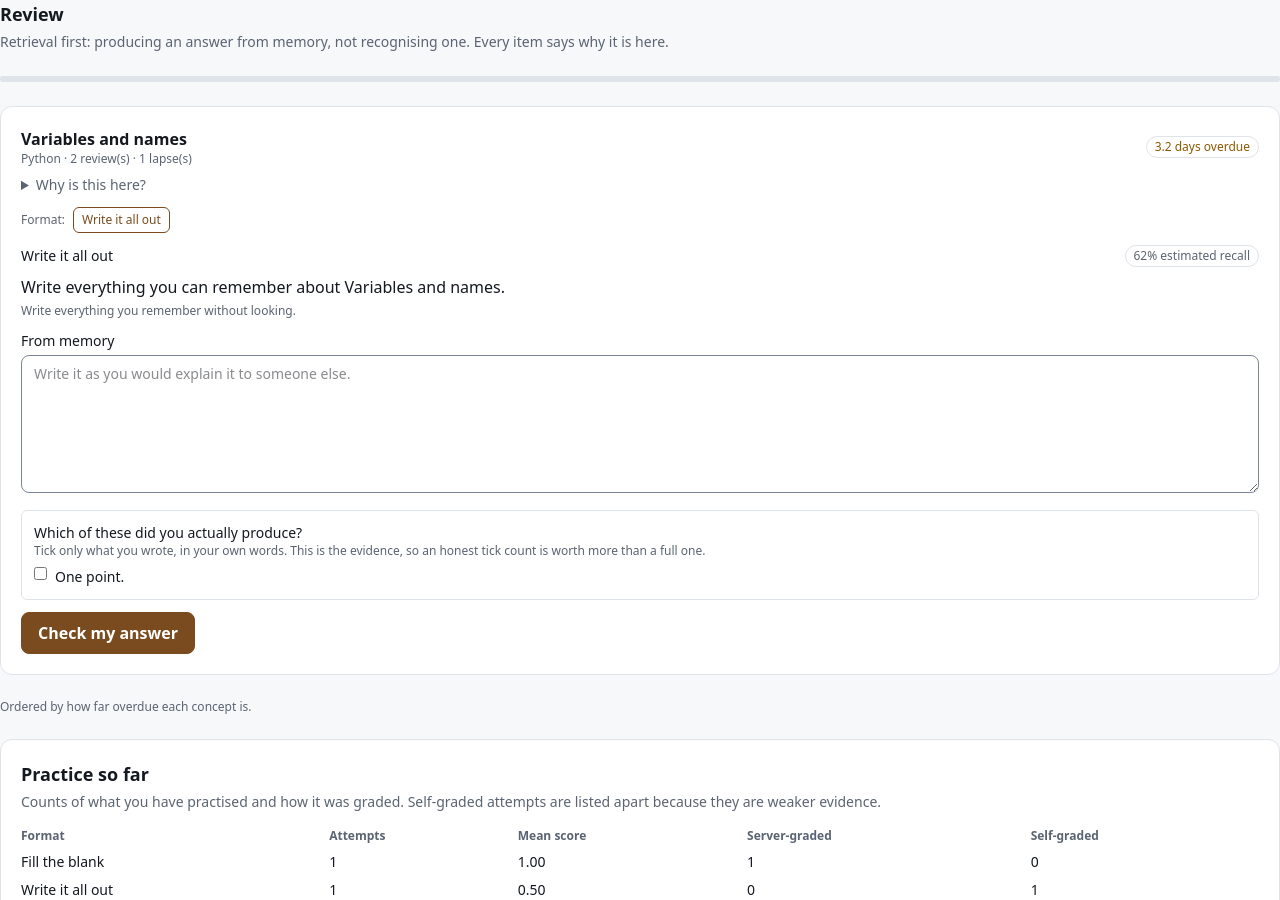
Test: ReviewPage — self-graded recall › says the learner graded it, rather than implying the server checked
Click the checkbox labelled "One point.". click: (40, 574)
box: [34, 567, 47, 580]
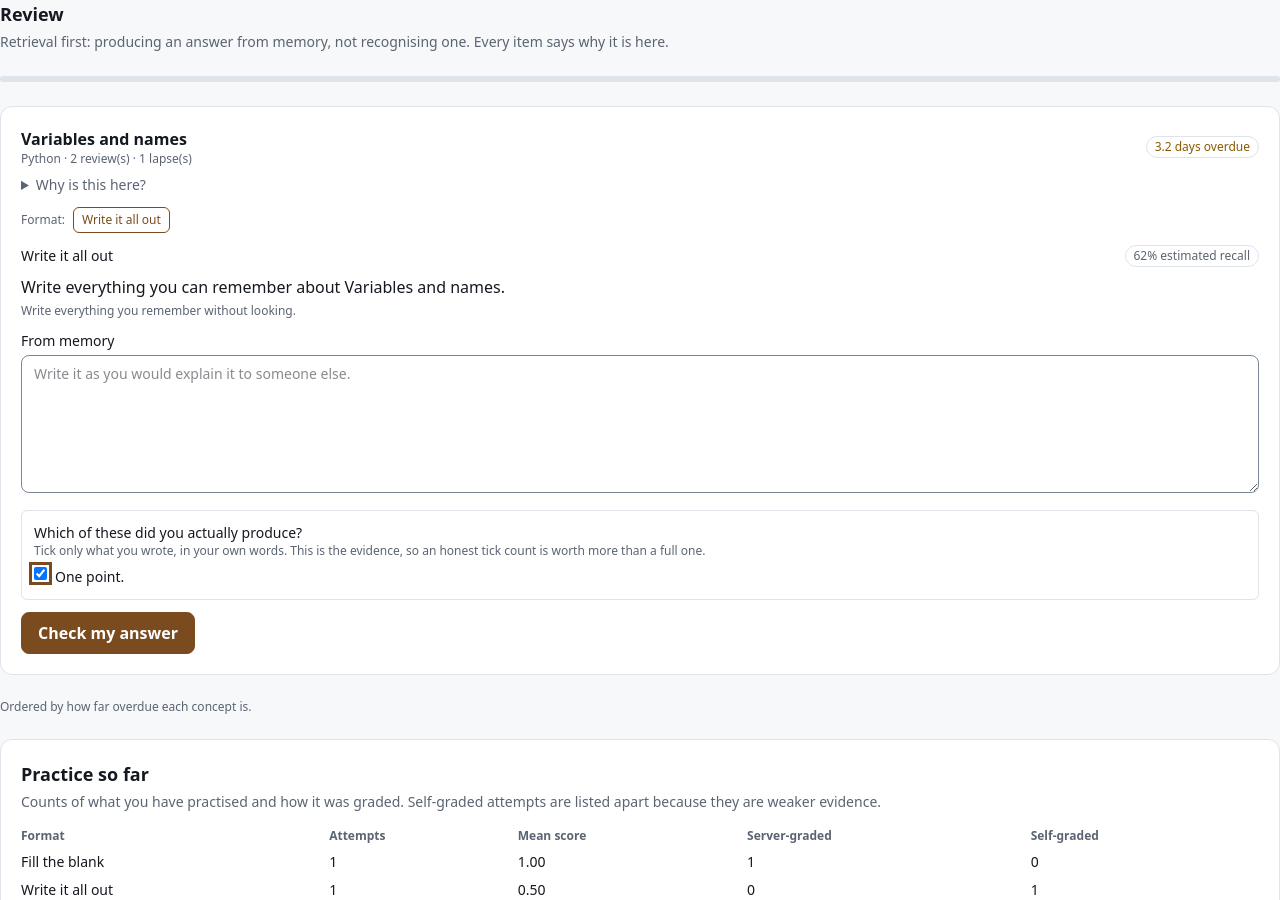
Click the button "Check my answer". click: (108, 633)
box: [21, 612, 195, 654]
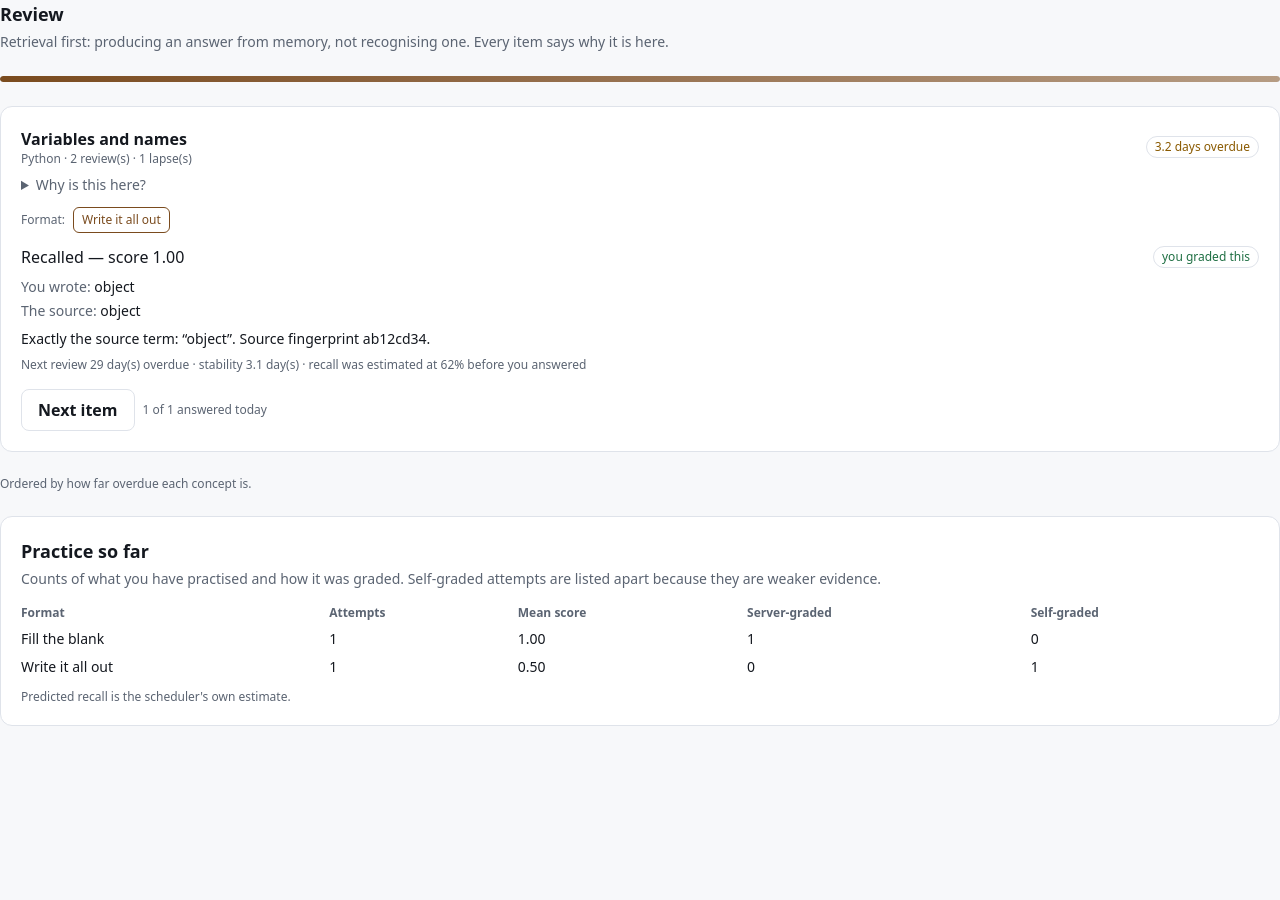
Expected: the text "you graded this" is shown, [1153, 246, 1259, 268]
